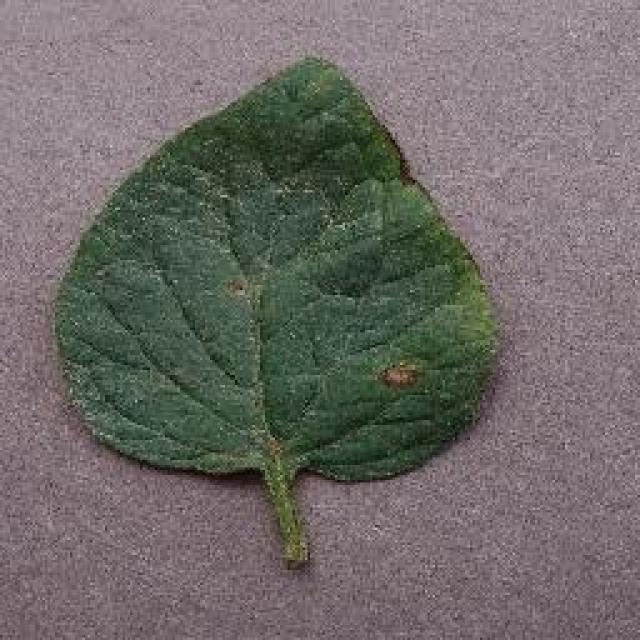Tomato Septoria spot leaf: (46, 58, 496, 482)
